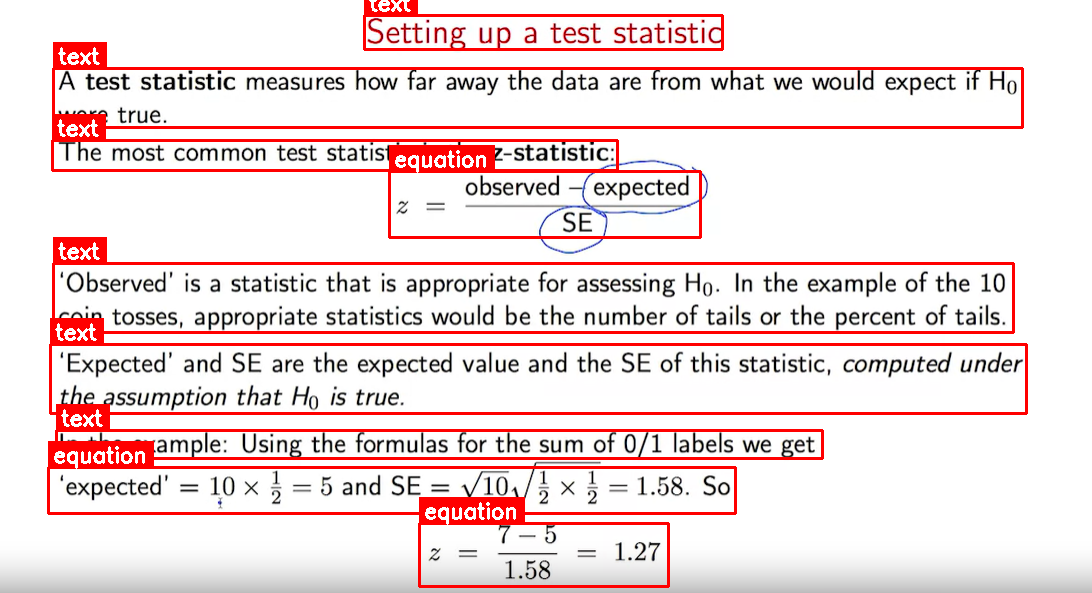equation: (48, 467, 735, 513), (389, 171, 700, 237), (419, 523, 668, 586)
text: (50, 344, 1026, 413), (53, 263, 1013, 332), (53, 68, 1022, 127), (56, 430, 822, 458), (52, 140, 617, 170), (364, 15, 722, 49)
